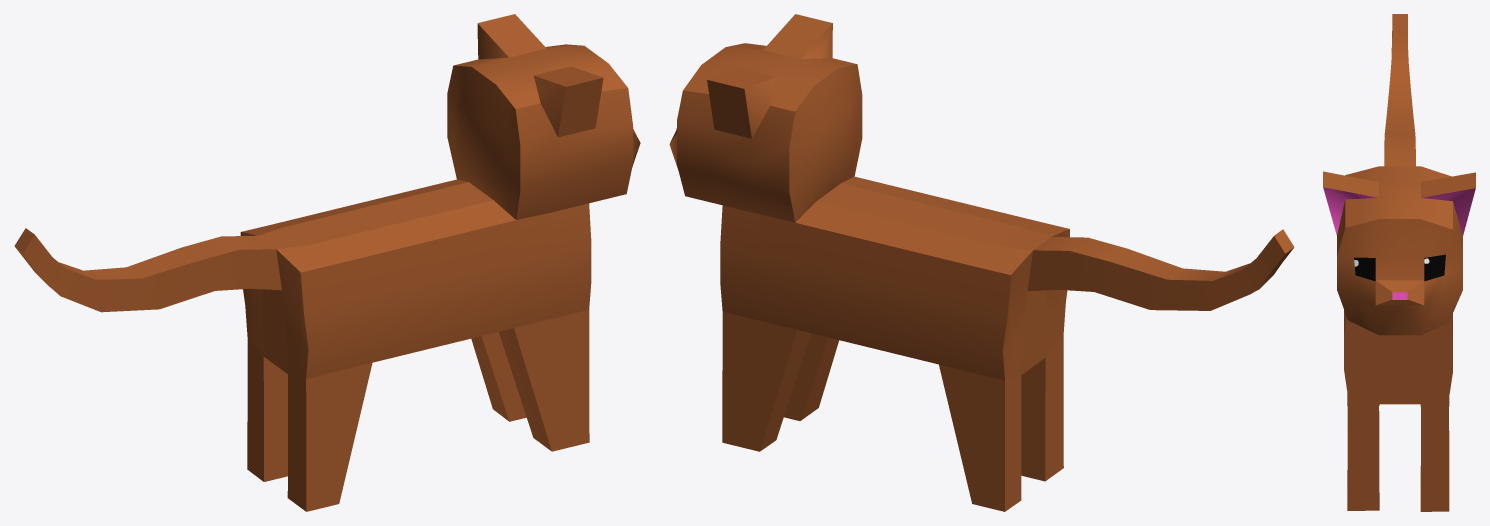
Rendered from Cat.fbx.
3 renders of one model, left to right at view 1: azimuth 30°, elevation 25°; view 2: azimuth 150°, elevation 25°; view 3: azimuth 270°, elevation 25°, orthographic. The views are drawn at different scales.
Visible parts, largest first — view 1: pCube1; view 2: pCube1; view 3: pCube1.
Boxes of the visible parts, x1,y1,x2,y2 form: pCube1: [14, 14, 640, 511]; pCube1: [669, 14, 1294, 511]; pCube1: [1323, 14, 1475, 511].
Size of the model in its own units: 1397 by 824 by 351.
1 material, 1 textured.
